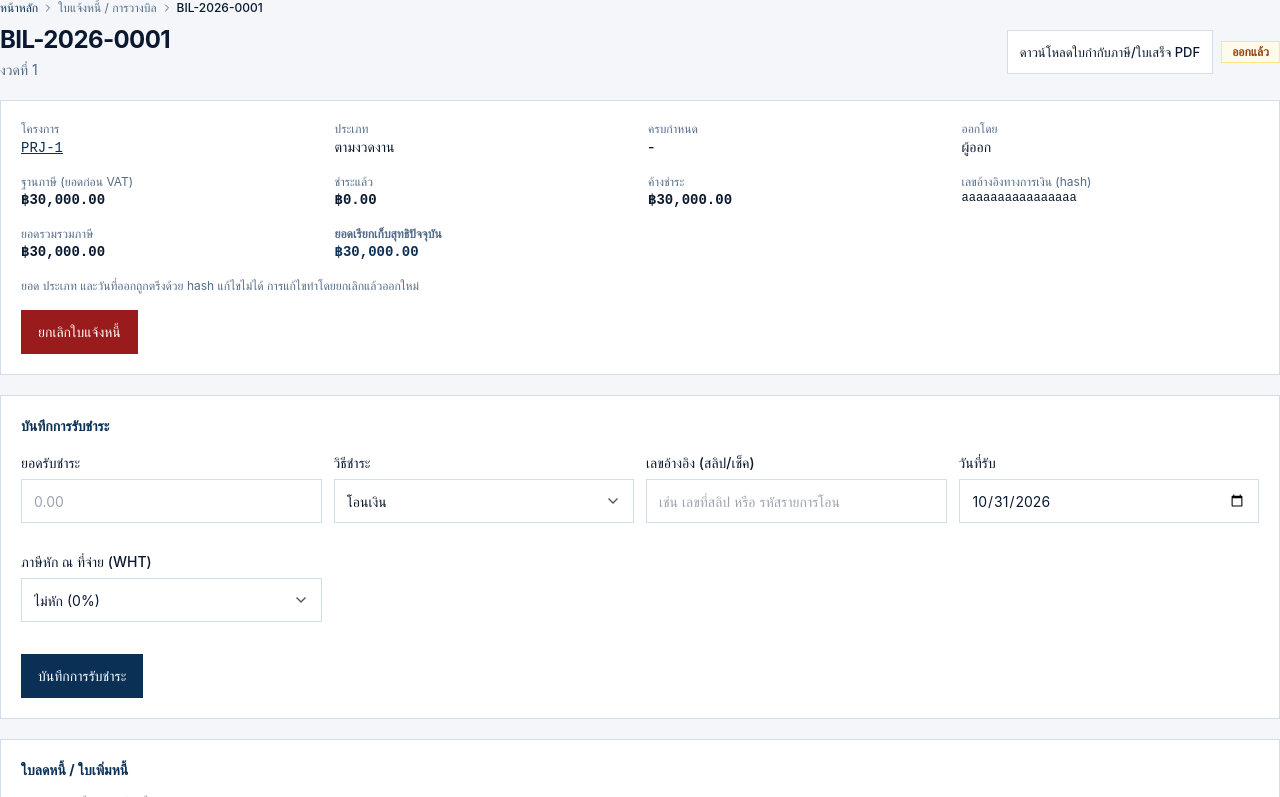
Test case: BillingDetail › shows the translated error when the payment exceeds the outstanding amount
Type "99999" into the number field labelled "ยอดรับชำระ". click: (171, 501)
box: [21,479,322,523]
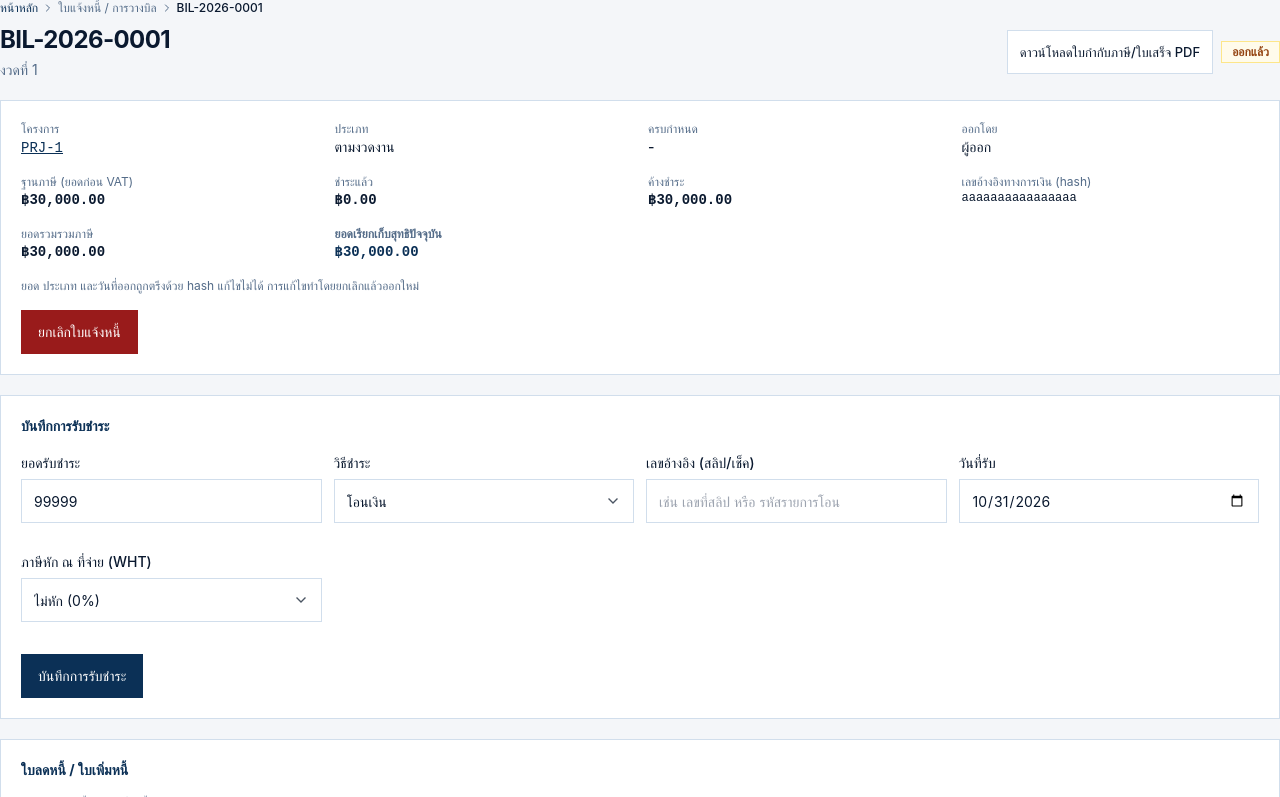
Type "SLIP-9" into the field labelled "เลขอ้างอิง (สลิป/เช็ค)". click: (796, 501)
box: [646,479,946,523]
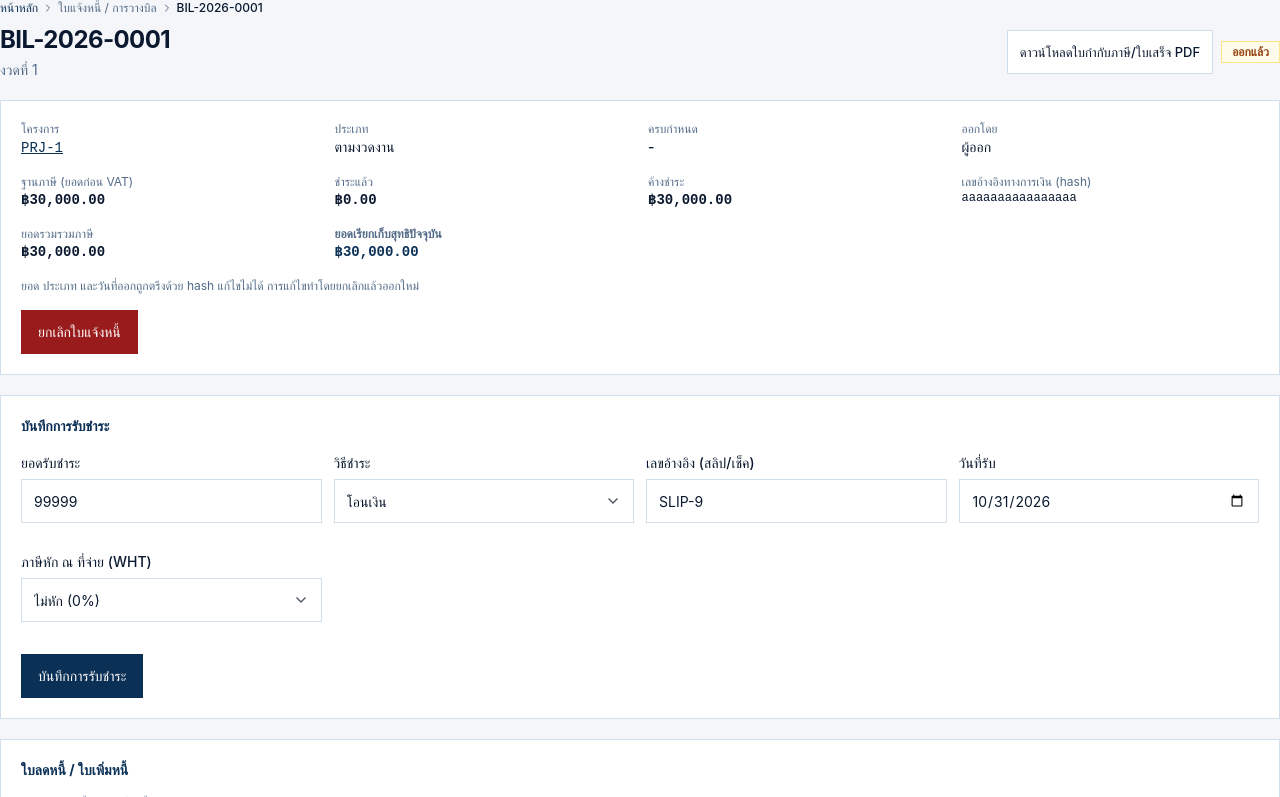
Click the button "บันทึกการรับชำระ". click: (82, 676)
box: [21,654,143,698]
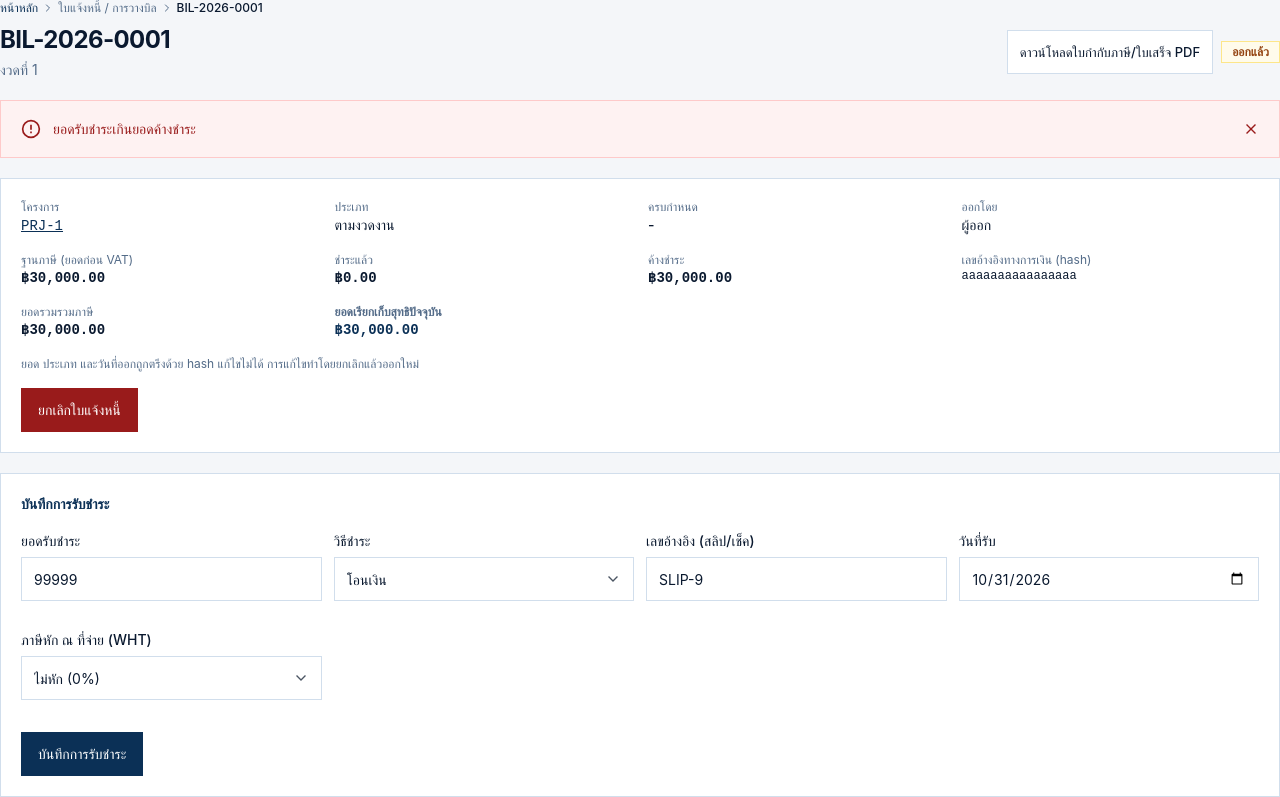
Expected: the text "ยอดรับชำระเกินยอดค้างชำระ" is shown, [53,120,196,137]
